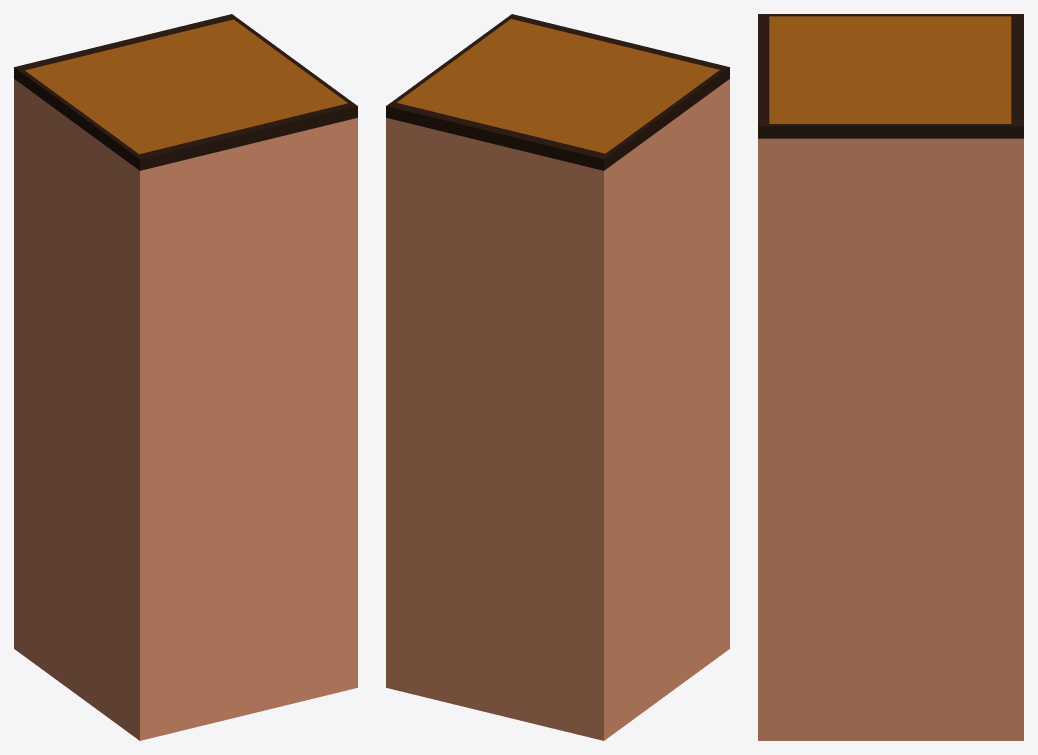
Rendered from CornerWallSegment.glb.
3 renders of one model, left to right at view 1: azimuth 30°, elevation 25°; view 2: azimuth 150°, elevation 25°; view 3: azimuth 270°, elevation 25°, orthographic. The views are drawn at different scales.
Parts seen in each view (by area): view 1: Cube.024; view 2: Cube.024; view 3: Cube.024.
Boxes of the visible parts, x1,y1,x2,y2 form: Cube.024: (14, 14, 357, 740); Cube.024: (386, 14, 729, 740); Cube.024: (758, 14, 1023, 740).
Size of the model in its own units: 2 by 5.1 by 2.
